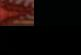zombie: (0, 0, 34, 26)
